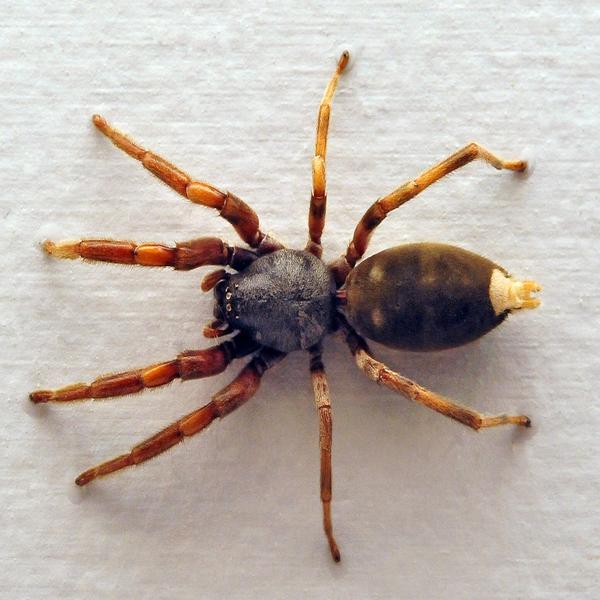White-Tailed Spider: (57, 57, 538, 557)
